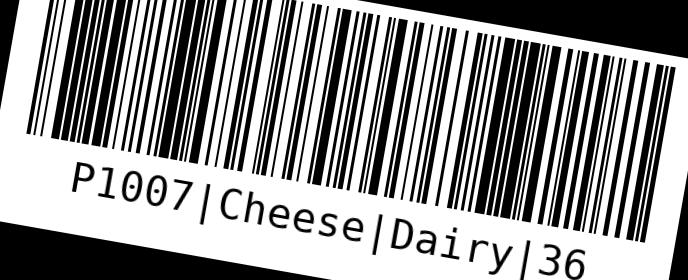milk: (8, 0, 683, 279)
